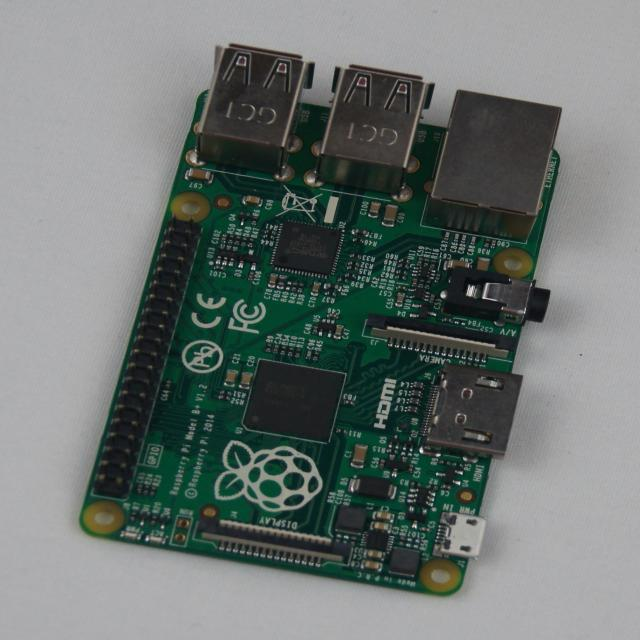Raspberry Pi 1 B-: (82, 46, 562, 595)
